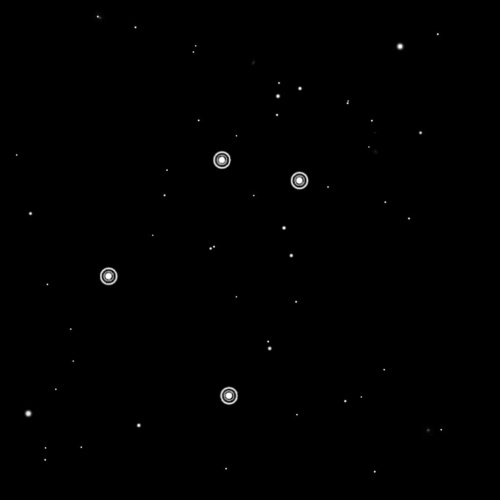coma_berenices: (89, 142, 320, 416)
